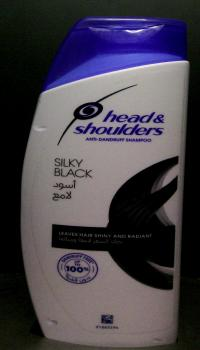dent_unacceptable: (40, 309, 62, 330), (33, 122, 58, 136), (148, 333, 168, 345)
